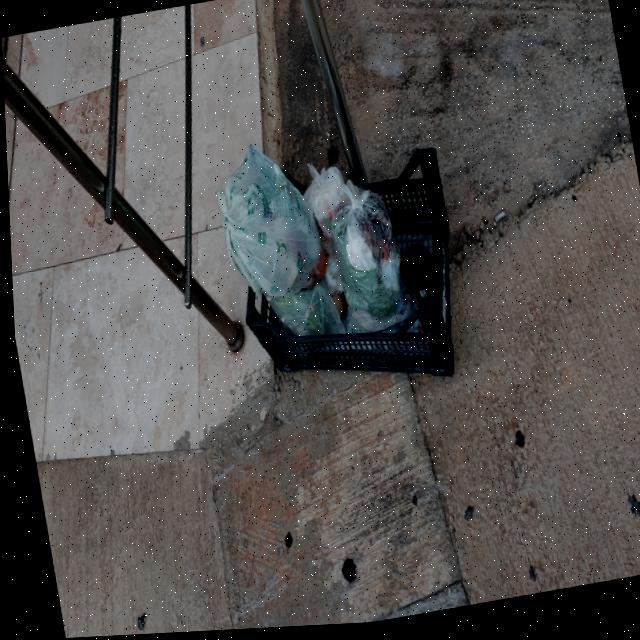Organic Waste -White Bag-: (204, 133, 329, 307), (320, 176, 410, 346), (254, 263, 350, 354), (295, 155, 357, 267)
Other: (218, 143, 474, 417), (393, 242, 437, 317)
